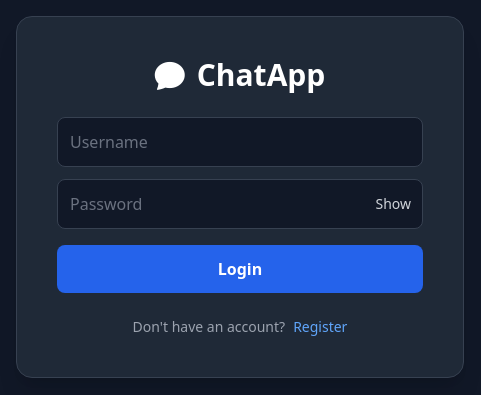
Test: switches between login and register
Click the text "Register": click(320, 326) [293,317,347,336]
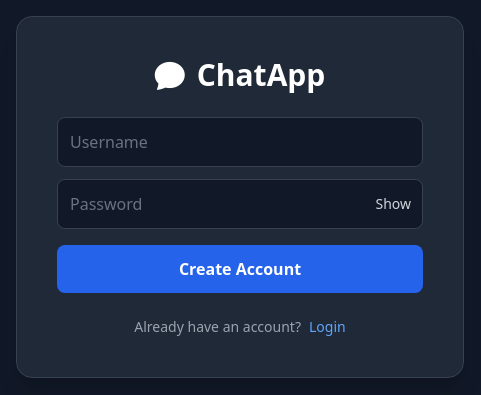
Result: the button "Create Account" is shown at [57,245,423,293]
